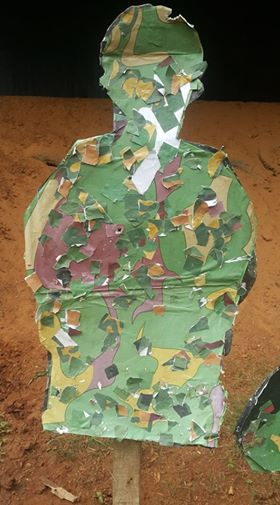Bullet: (94, 273, 101, 280), (169, 13, 176, 19), (115, 227, 121, 232), (126, 176, 131, 180)
